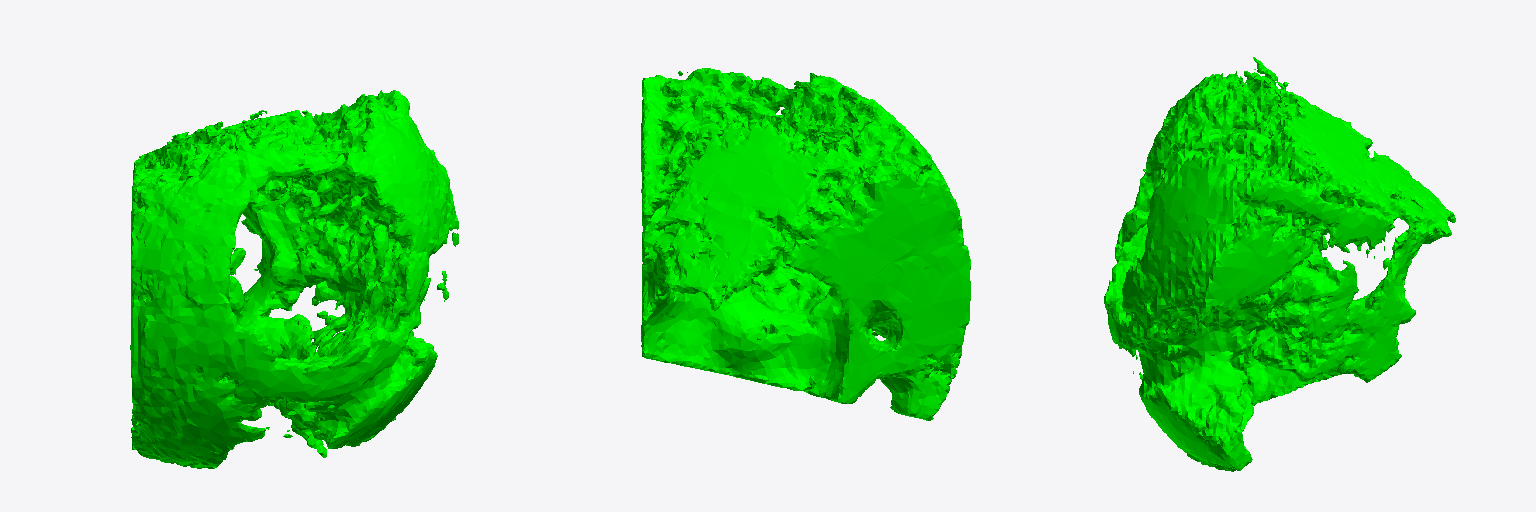
File: B939XXXX-1_base_9.obj
3 views of the same model, side by side, from view 1: azimuth 30°, elevation 25°; view 2: azimuth 150°, elevation 25°; view 3: azimuth 270°, elevation 25° (orthographic).
Parts seen in each view (by area): view 1: 9_base; view 2: 9_base; view 3: 9_base.
Part boxes in pixels (x1,y1,x2,y2): 9_base: (130,90,458,468); 9_base: (641,68,970,420); 9_base: (1104,57,1455,471).
Size of the model in its own units: 219 by 216 by 204.